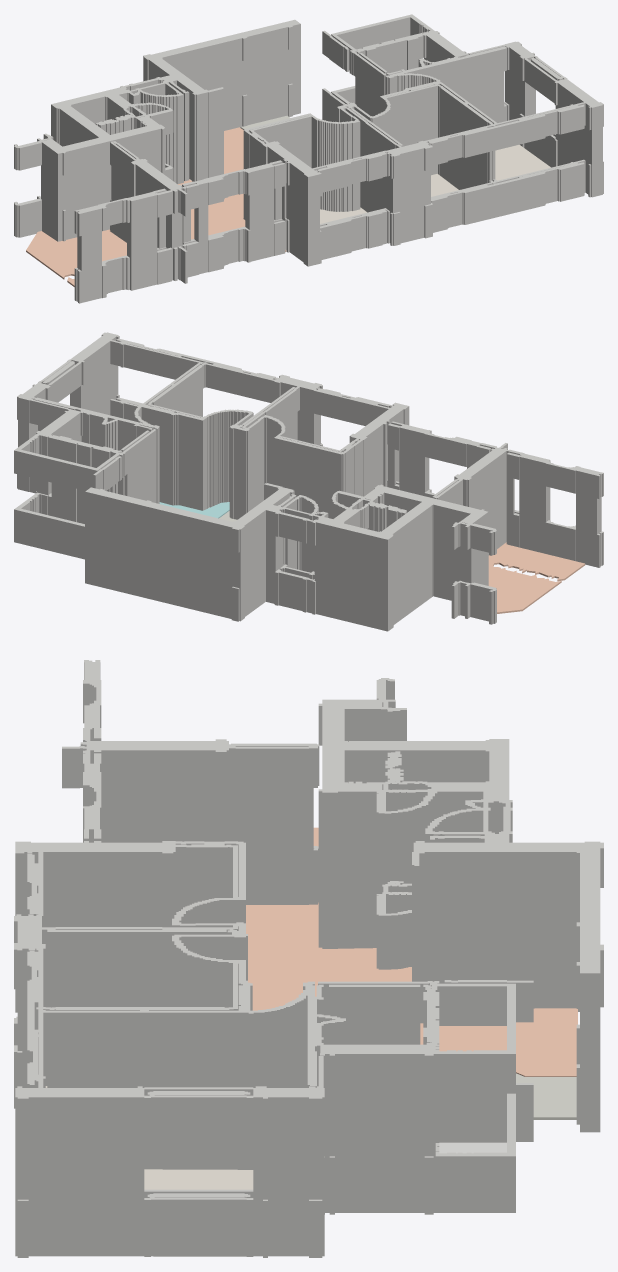
The picture shows the model from 3 angles, top to bottom: view 1: azimuth 30°, elevation 25°; view 2: azimuth 150°, elevation 25°; view 3: azimuth 270°, elevation 25°; orthographic projection. The views are drawn at different scales.
Visible parts, largest first — view 1: walls, room:kitchen:0, room:other:6, room:other:7; view 2: walls, room:kitchen:0, room:bath:3; view 3: walls, room:kitchen:0, room:other:6, room:yard:1.
Part boxes in pixels (x1,y1,x2,y2): walls: (14,14,603,303); room:kitchen:0: (26,127,286,286); room:other:6: (495,144,550,180); room:other:7: (431,174,458,196); walls: (14,332,603,631); room:kitchen:0: (488,542,585,613); room:bath:3: (159,502,229,518); walls: (14,660,603,1257); room:kitchen:0: (246,827,577,1076); room:other:6: (144,1169,253,1189); room:yard:1: (516,1073,576,1119).
Size of the model in its own units: 16.55 by 2.8 by 9.41.
